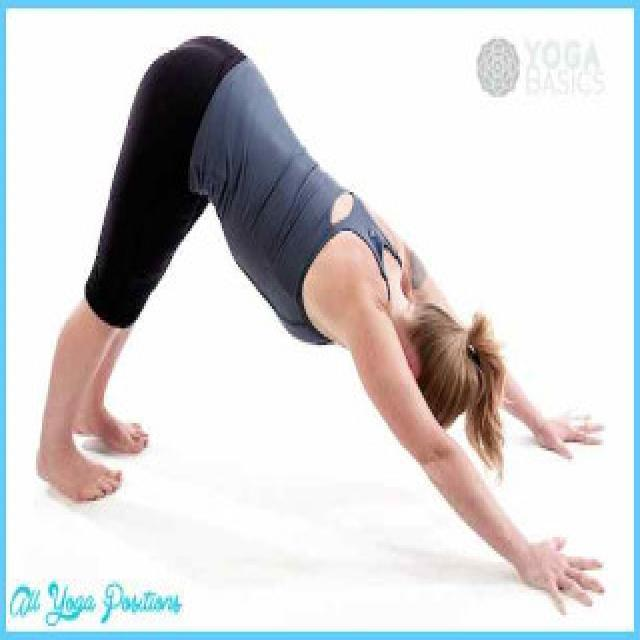yoga-pose downward: (37, 31, 616, 588)
